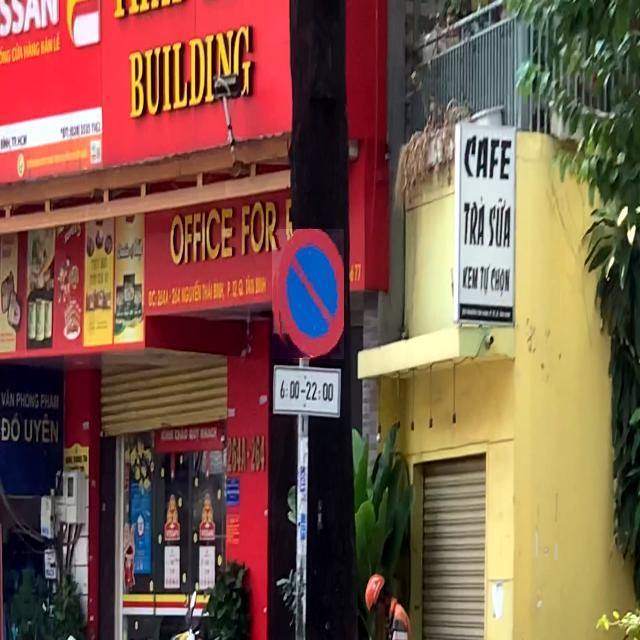P-131a: (272, 229, 344, 359)
